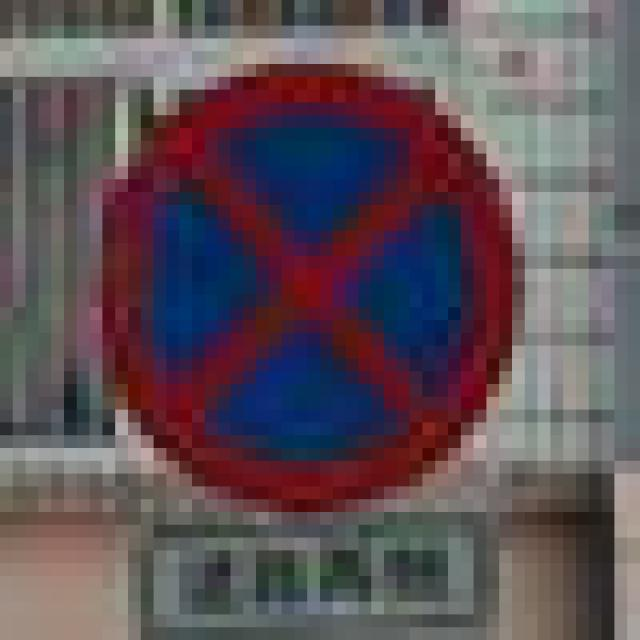no_parking: (77, 51, 499, 499)
